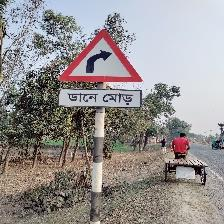Right-turn: (57, 29, 144, 112)
